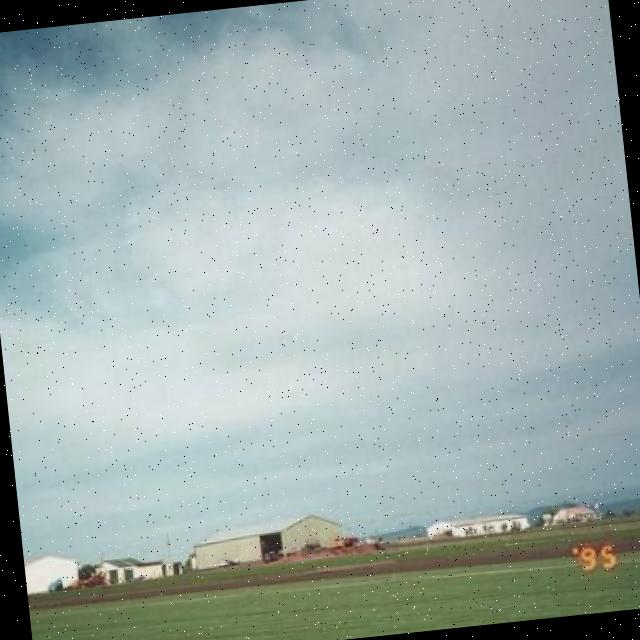Cs: (1, 1, 640, 464)
